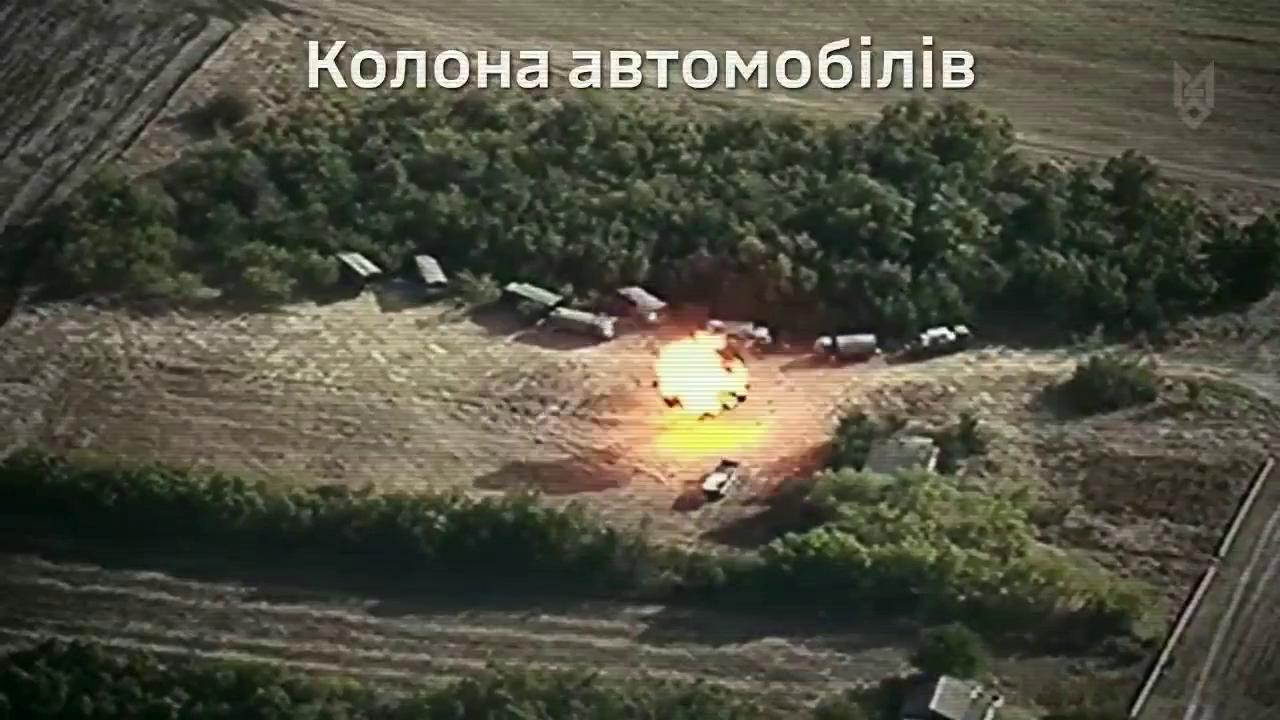tank: (546, 303, 621, 343), (700, 315, 772, 356), (503, 276, 564, 322), (908, 322, 971, 366), (810, 331, 882, 366), (332, 246, 382, 296), (613, 286, 667, 329), (409, 252, 446, 303), (704, 454, 742, 500)
